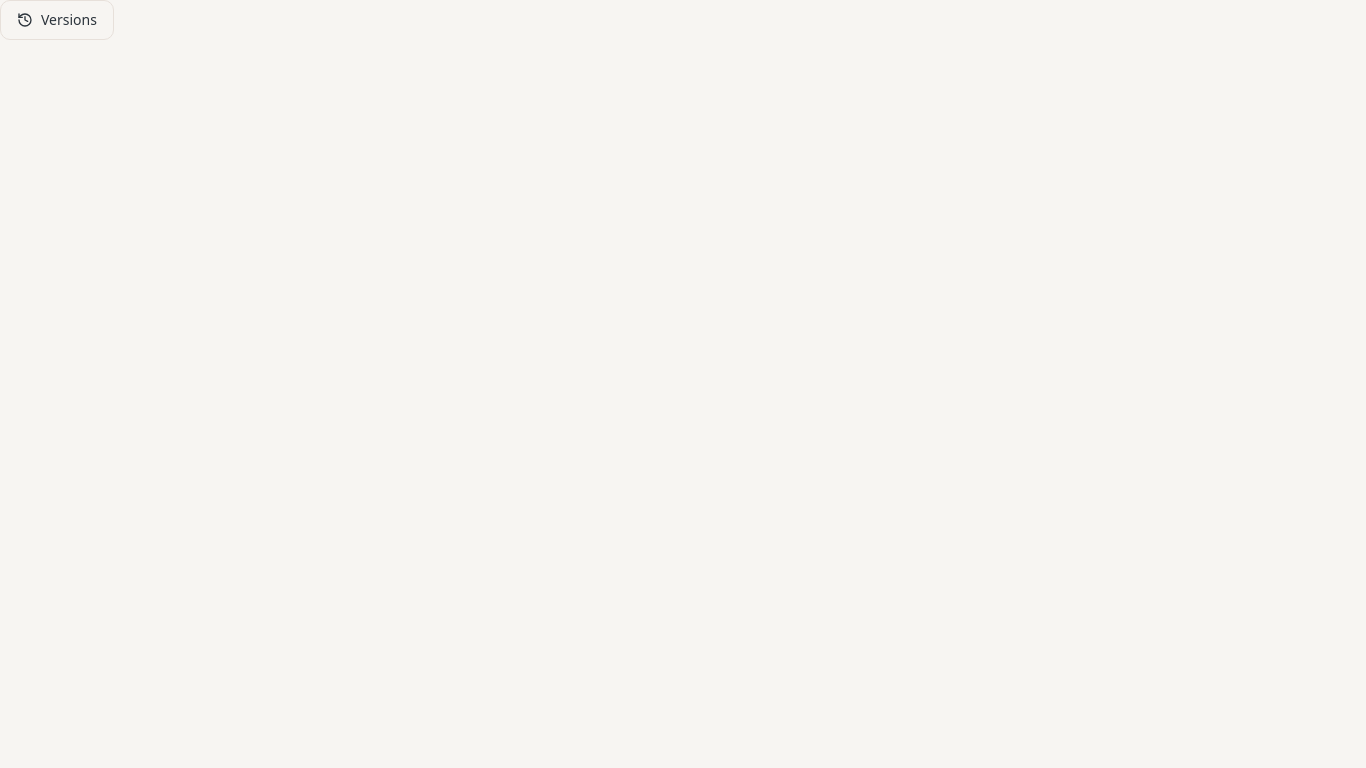
Test case: expands just the selected changes and keeps the latest version non-revertible
This screenshot has width=1366, height=768.
Later steps or results of the test are not shown.
Click the button "Versions": (57, 20) [0, 0, 114, 40]
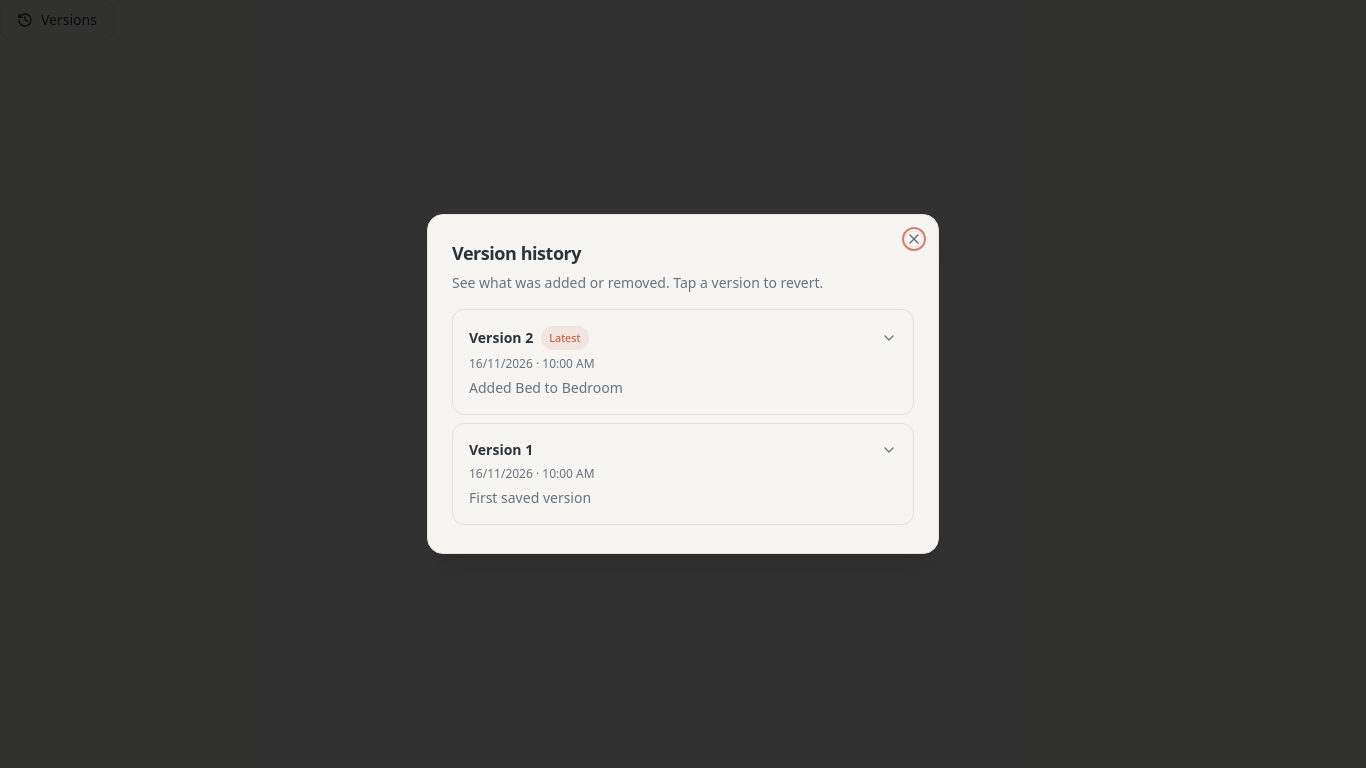
Now the text "First saved version" is shown, box [469, 488, 591, 507]
Click the button "Version 2 Latest 16/11/2026 · 10:00 AM Added Bed to Bedroom": (497, 338) [453, 310, 913, 414]
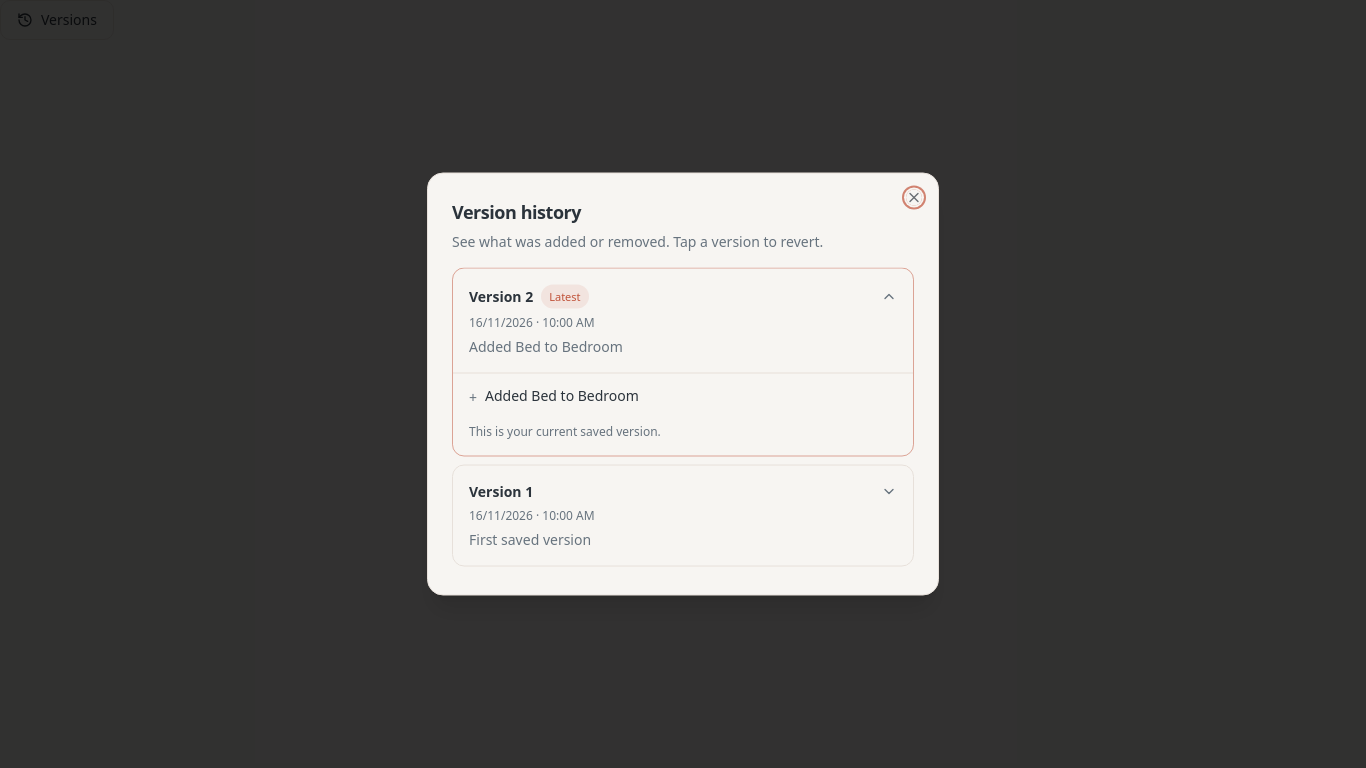
Now the list named "Changes in Version 2" is shown, box [469, 386, 639, 406]
Now the list named "Changes in Version 2" shows "Added Bed to Bedroom", box [485, 386, 639, 404]
